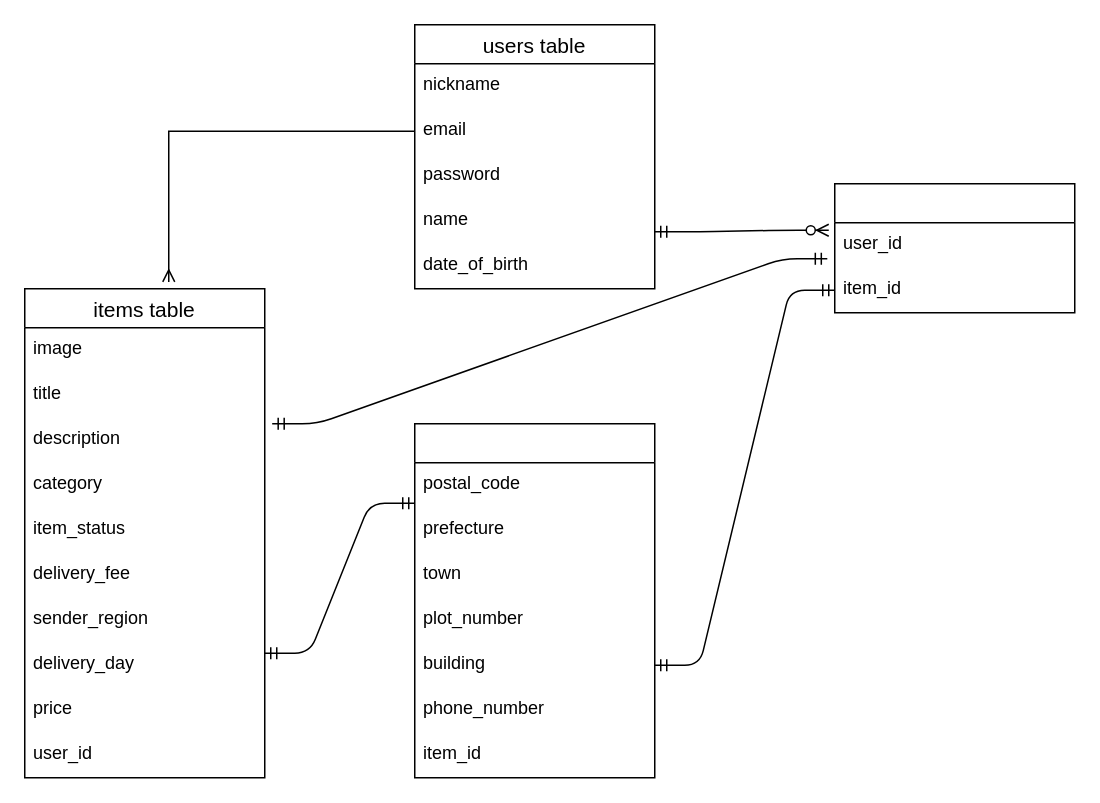
Some shapes in this 1100 by 803 pixel diagram are drawn without their labels. Here are the shapes that lost their labels. From the top down, the box of each, then its label:
(833, 182, 1075, 313): purchase_records table
(413, 422, 655, 778): delivery_address table
